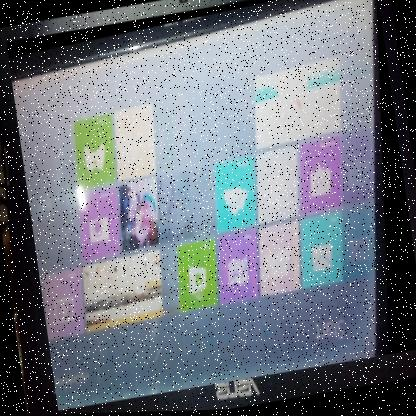fade: (4, 0, 415, 414)
spot: (31, 69, 44, 94)
